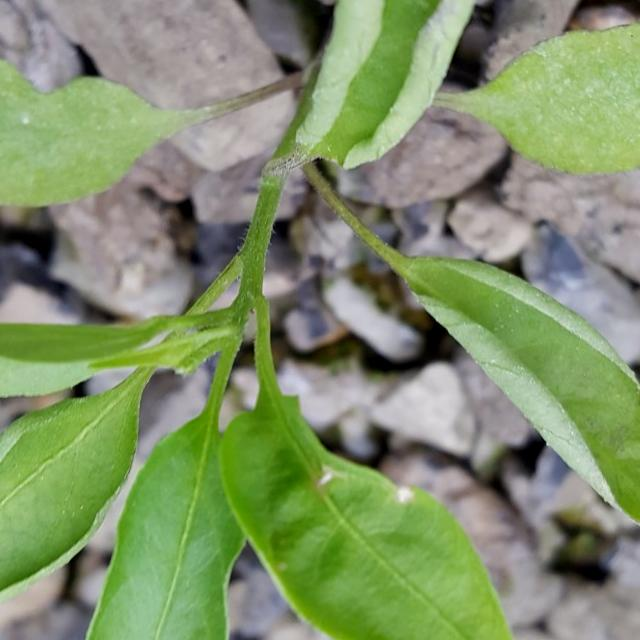Tomato leaf: (217, 395, 575, 640), (377, 242, 640, 554), (49, 368, 284, 640), (451, 0, 640, 184), (0, 55, 194, 214)
